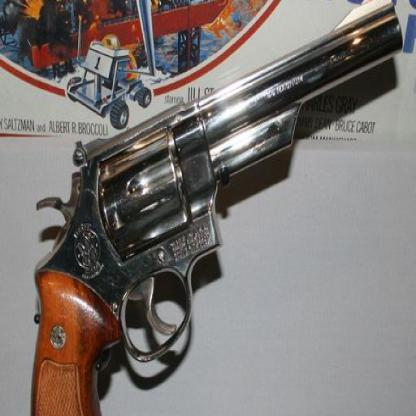gun: (32, 0, 402, 415)
